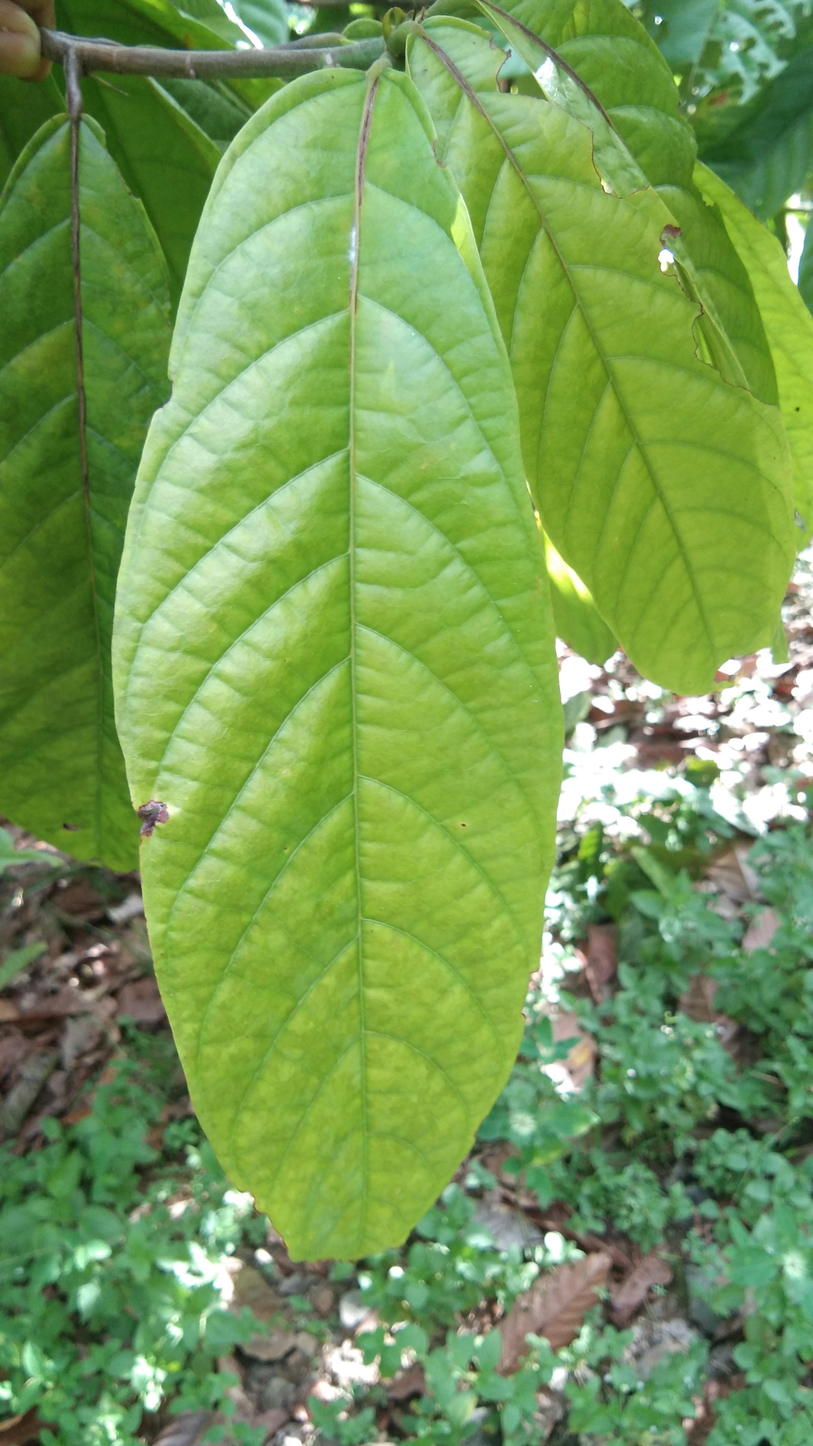deficiencia_potasio: (118, 56, 545, 1286)
